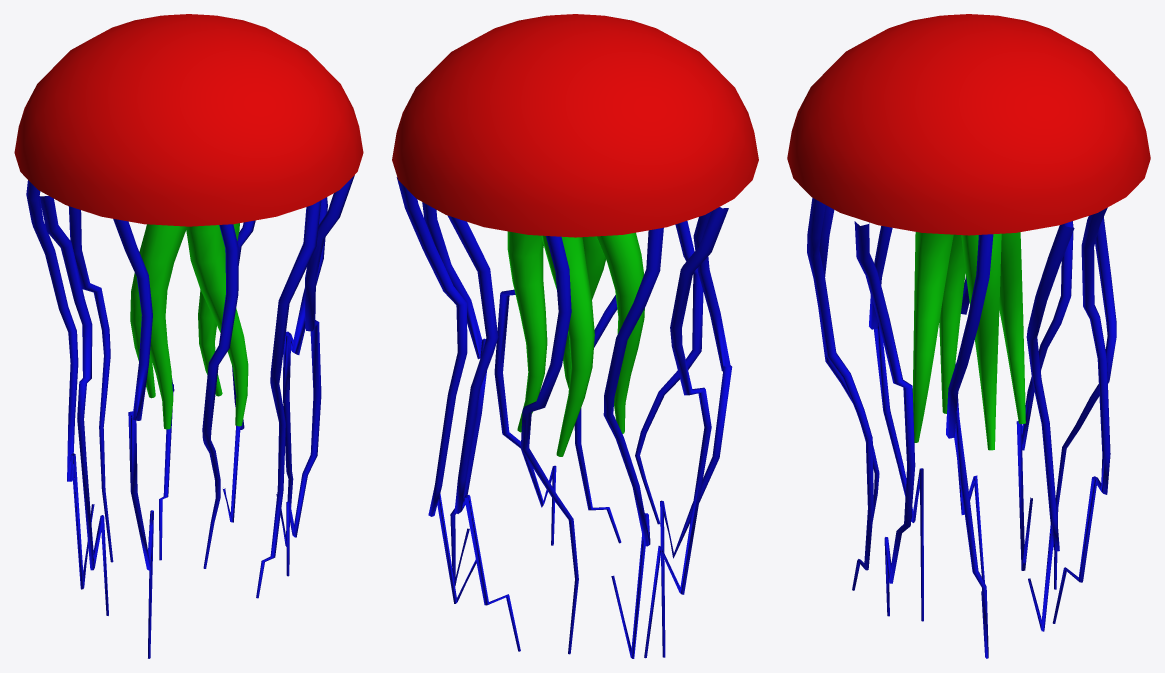
The model's file is fish_jelly.glb.
3 renders of one model, left to right at view 1: azimuth 30°, elevation 25°; view 2: azimuth 150°, elevation 25°; view 3: azimuth 270°, elevation 25°, orthographic. The views are drawn at different scales.
Visible parts, largest first — view 1: Body; view 2: Body; view 3: Body.
Part boxes in pixels (x1,y1,x2,y2): Body: [14, 14, 363, 658]; Body: [392, 14, 758, 658]; Body: [787, 14, 1150, 658].
Bounding box in the file's own units: 1 × 1.87 × 1.
